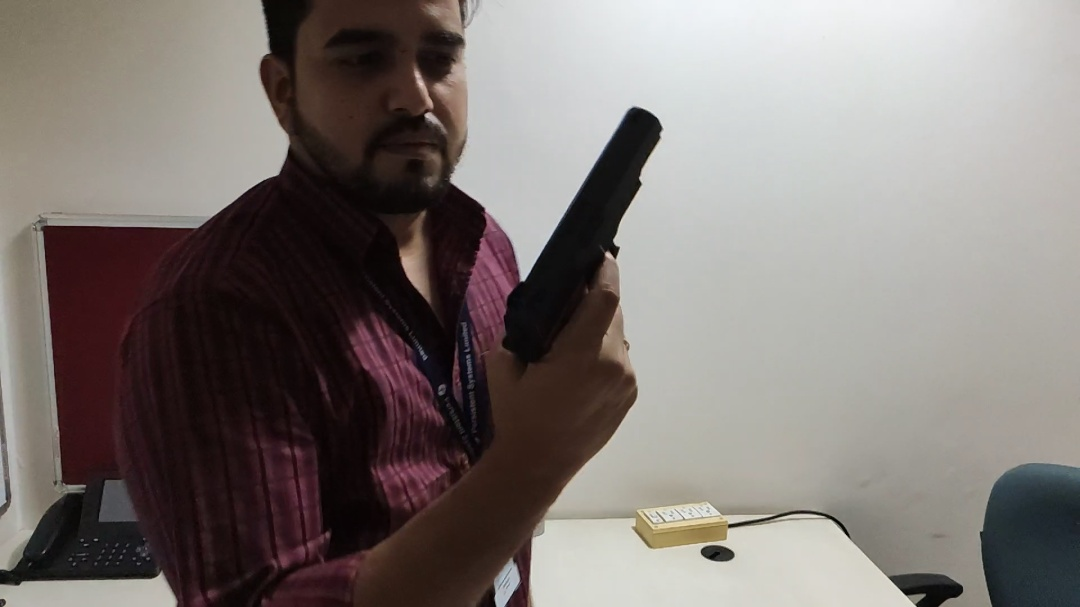gun: (494, 78, 685, 435)
